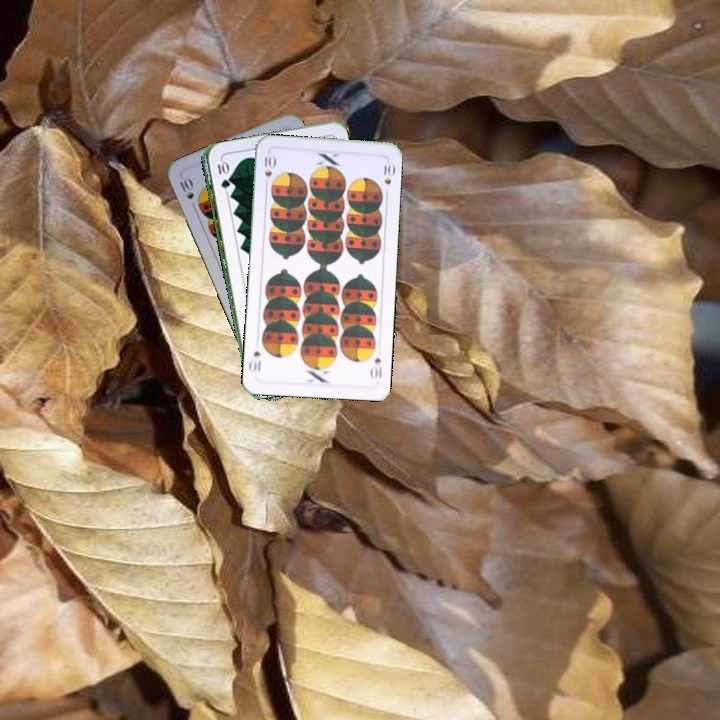G10: (213, 156, 230, 192)
S10: (176, 173, 198, 211), (260, 149, 277, 190), (366, 354, 384, 381)
